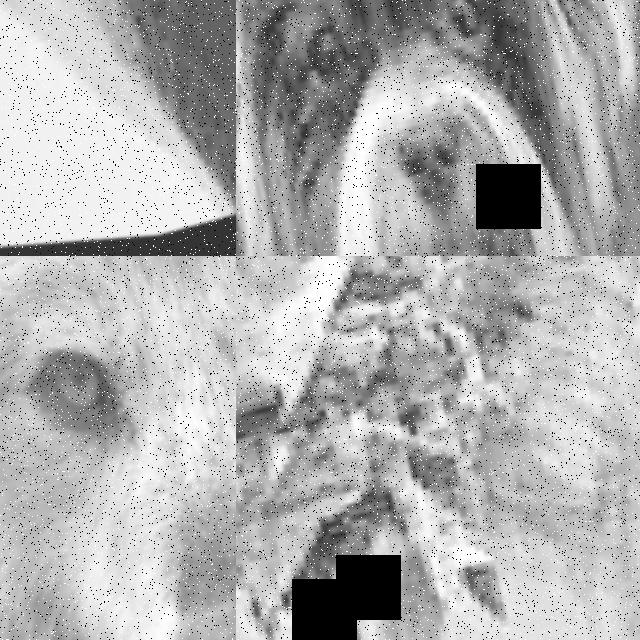dog: (236, 0, 640, 256), (0, 0, 236, 256)
wolf: (236, 256, 640, 640), (0, 256, 236, 640)
